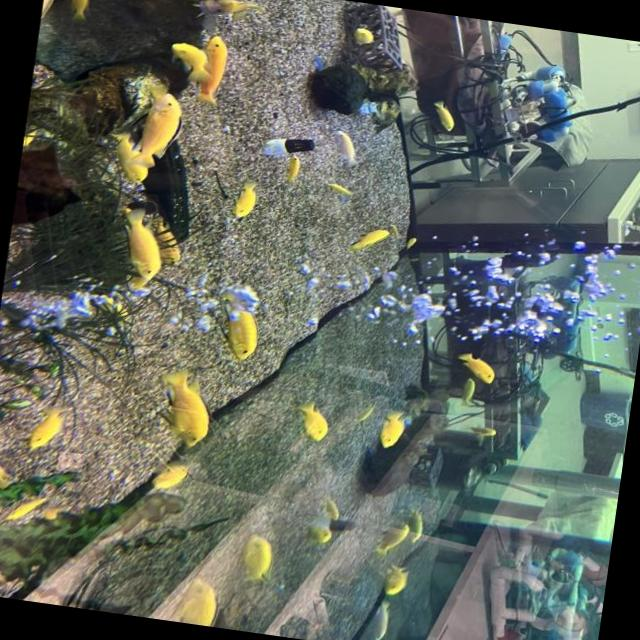YellowCichlid: (146, 364, 222, 446), (123, 204, 171, 306), (212, 287, 268, 366), (160, 574, 233, 630), (131, 92, 185, 160), (18, 399, 76, 454), (182, 0, 270, 36), (234, 523, 284, 585), (193, 36, 238, 104), (149, 36, 206, 86), (220, 174, 266, 232), (416, 94, 466, 142), (96, 152, 162, 188), (373, 400, 412, 460), (451, 416, 510, 450), (338, 16, 390, 54), (451, 346, 505, 382), (290, 401, 336, 442), (2, 490, 50, 528), (367, 564, 416, 600), (354, 216, 393, 260), (150, 456, 190, 494), (373, 521, 408, 558), (296, 516, 332, 548), (396, 232, 432, 260), (406, 505, 430, 545), (346, 400, 376, 432), (453, 380, 482, 410), (275, 156, 305, 185), (60, 0, 93, 21), (324, 178, 354, 201), (40, 0, 60, 15)
